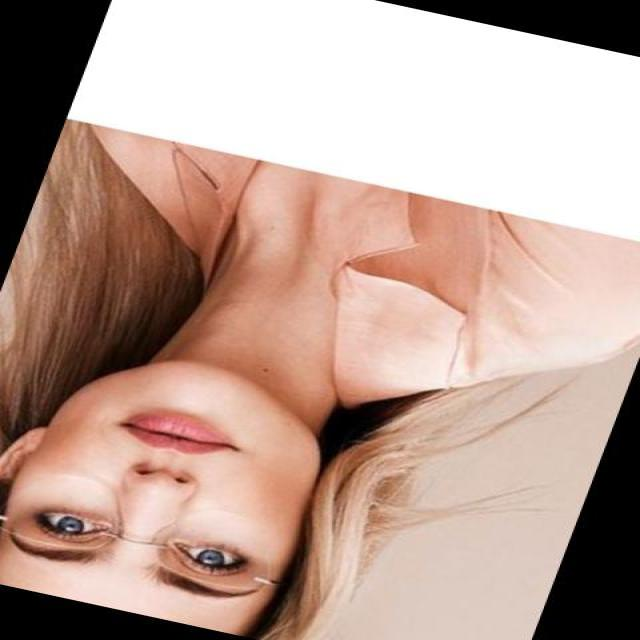glasses: (0, 459, 300, 603)
